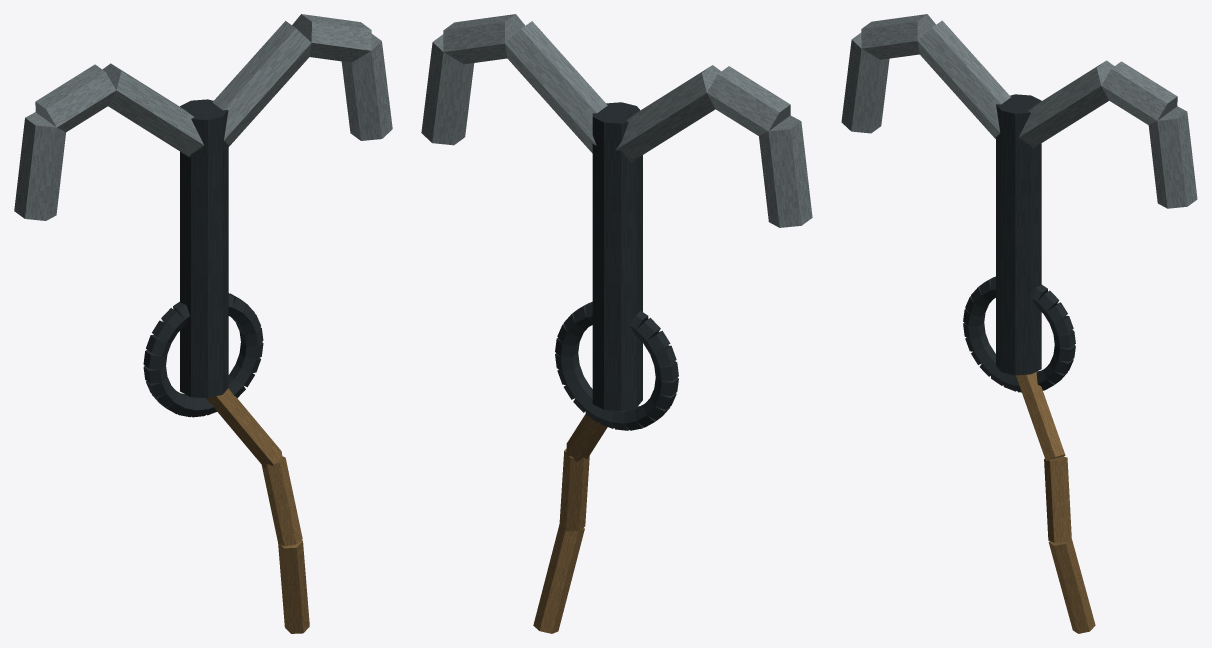
Rendered from SM_grappling_hook.gltf.
The picture shows the model from 3 angles, left to right: view 1: azimuth 30°, elevation 25°; view 2: azimuth 150°, elevation 25°; view 3: azimuth 330°, elevation 25°; orthographic projection. The views are drawn at different scales.
Parts seen in each view (by area): view 1: root; view 2: root; view 3: root.
Boxes of the visible parts, left/top/right/bottom form: root: left=14, top=14, right=392, bottom=633; root: left=421, top=14, right=812, bottom=633; root: left=841, top=14, right=1197, bottom=633.
Size of the model in its own units: 0.6784 by 1.05 by 0.1298.
3 materials, 3 textured.
